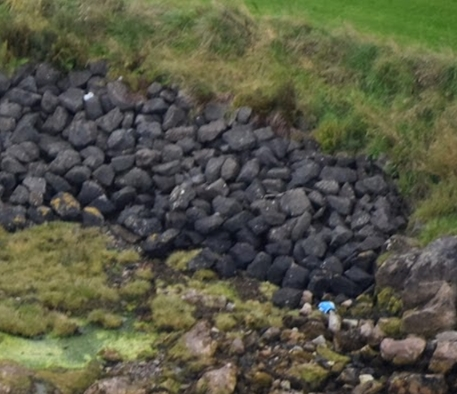white_in_green: (302, 280, 353, 326), (65, 75, 109, 113)
